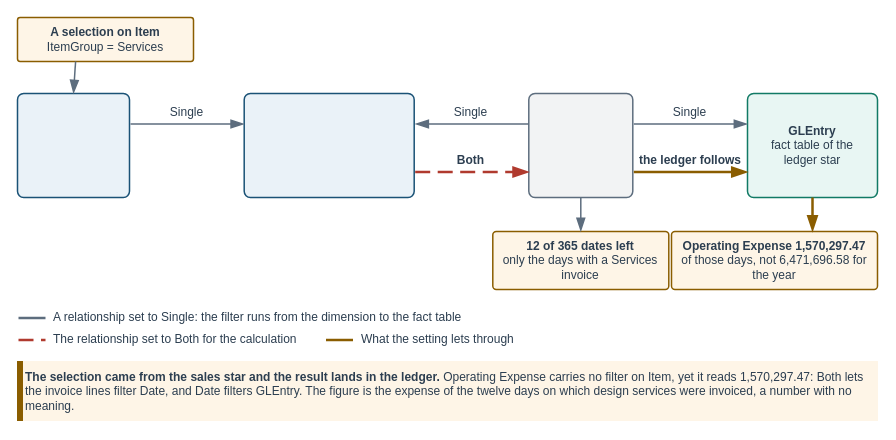
Image size: 896x440. Some labels were removed from this diagram. The box of each missing label's shape, as (x1, y1, x2, y2) in pixels:
Date shared by both stars: (528, 92, 633, 198)
Item a dimension of the sales star: (16, 92, 130, 198)
SalesInvoiceLine fact table of the sales star: (243, 92, 414, 198)
